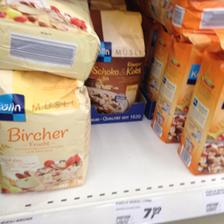Cerealien: (0, 69, 88, 194), (86, 10, 146, 114)
